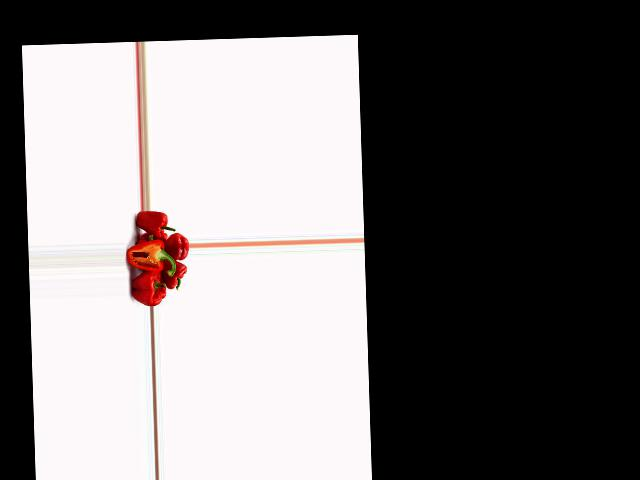bell_pepper: (162, 259, 187, 290)
